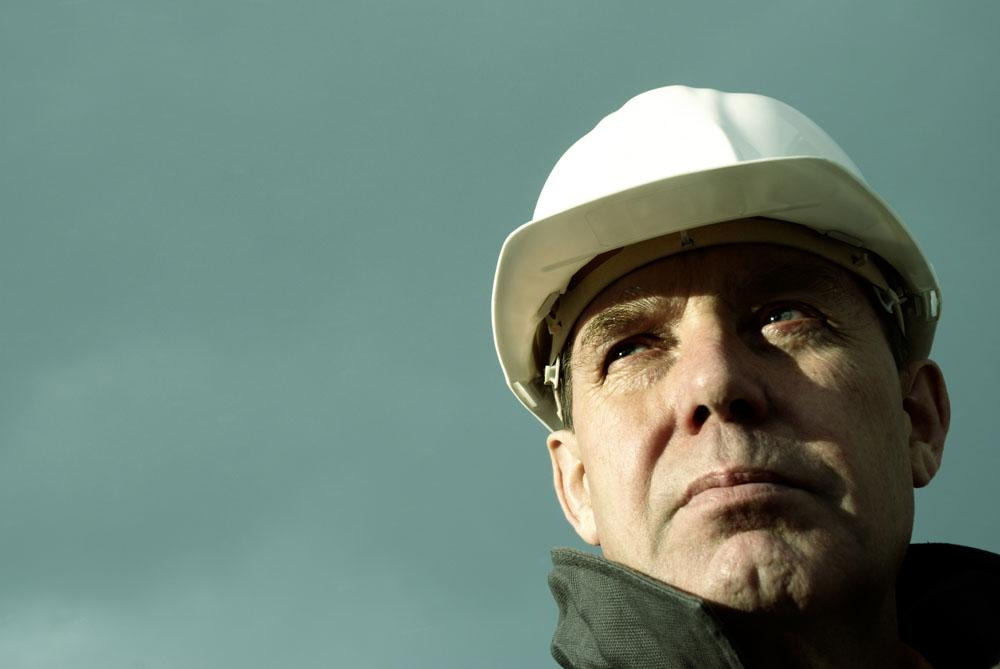helmet: (491, 73, 971, 404)
